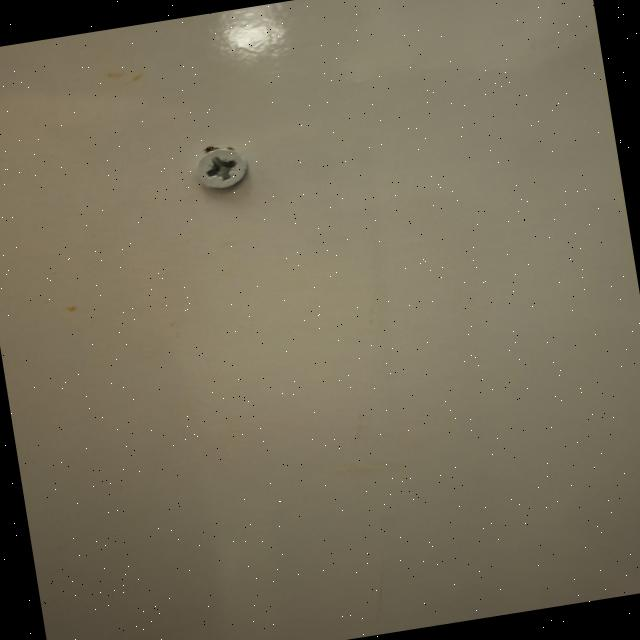Pozidriv: (192, 148, 254, 194)
